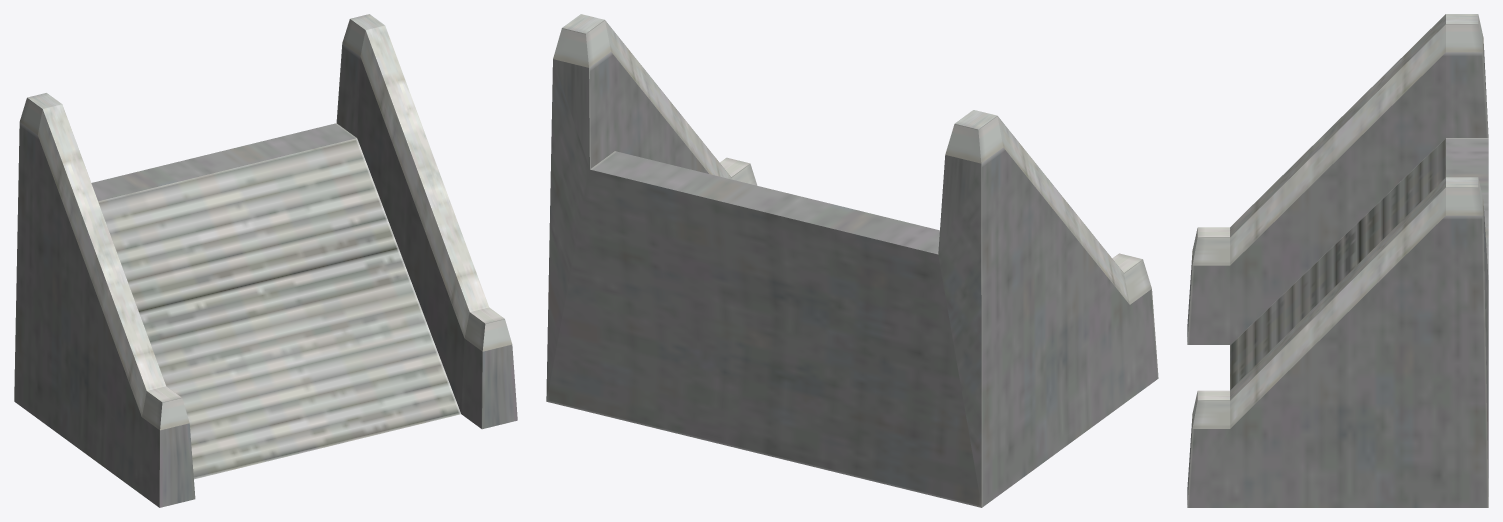
The model's file is thm_corl_imprv_stair_small_s01_l2.fbx.
The picture shows the model from 3 angles, left to right: view 1: azimuth 30°, elevation 25°; view 2: azimuth 150°, elevation 25°; view 3: azimuth 270°, elevation 25°; orthographic projection. The views are drawn at different scales.
Parts seen in each view (by area): view 1: mesh_node; view 2: mesh_node; view 3: mesh_node.
Boxes of the visible parts, x1,y1,x2,y2 form: mesh_node: (14,14,517,507); mesh_node: (546,14,1158,507); mesh_node: (1187,14,1488,507).
Bounding box in the file's own units: 7.5 × 6.12 × 5.27.
Materials: 1 (1 with a texture image).
